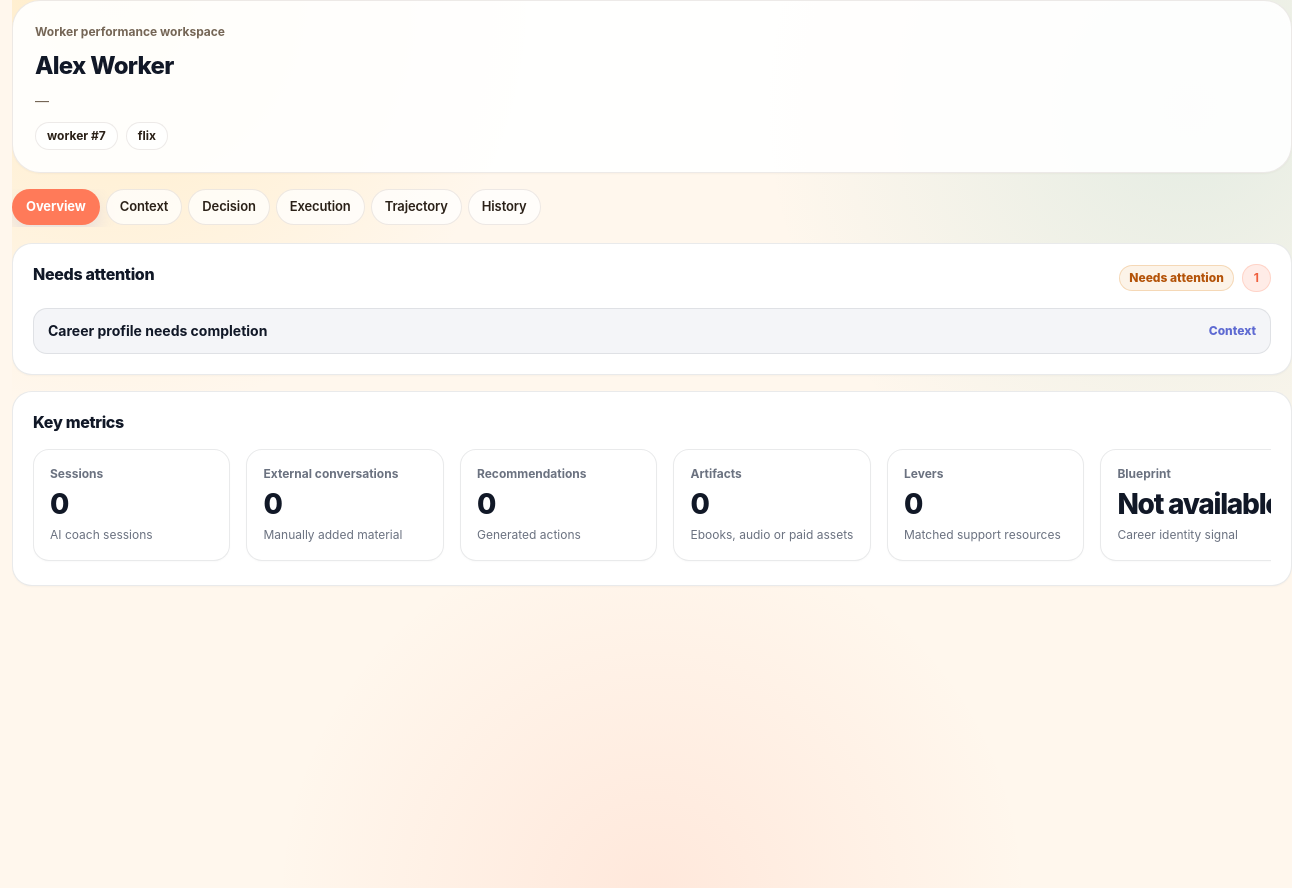
OrganizationInsightsTab + Organization Guidance › keeps guidance visible when the persisted mandate plan is absent
Click the tab "Decision".
click(229, 207)  # box [188, 189, 270, 225]
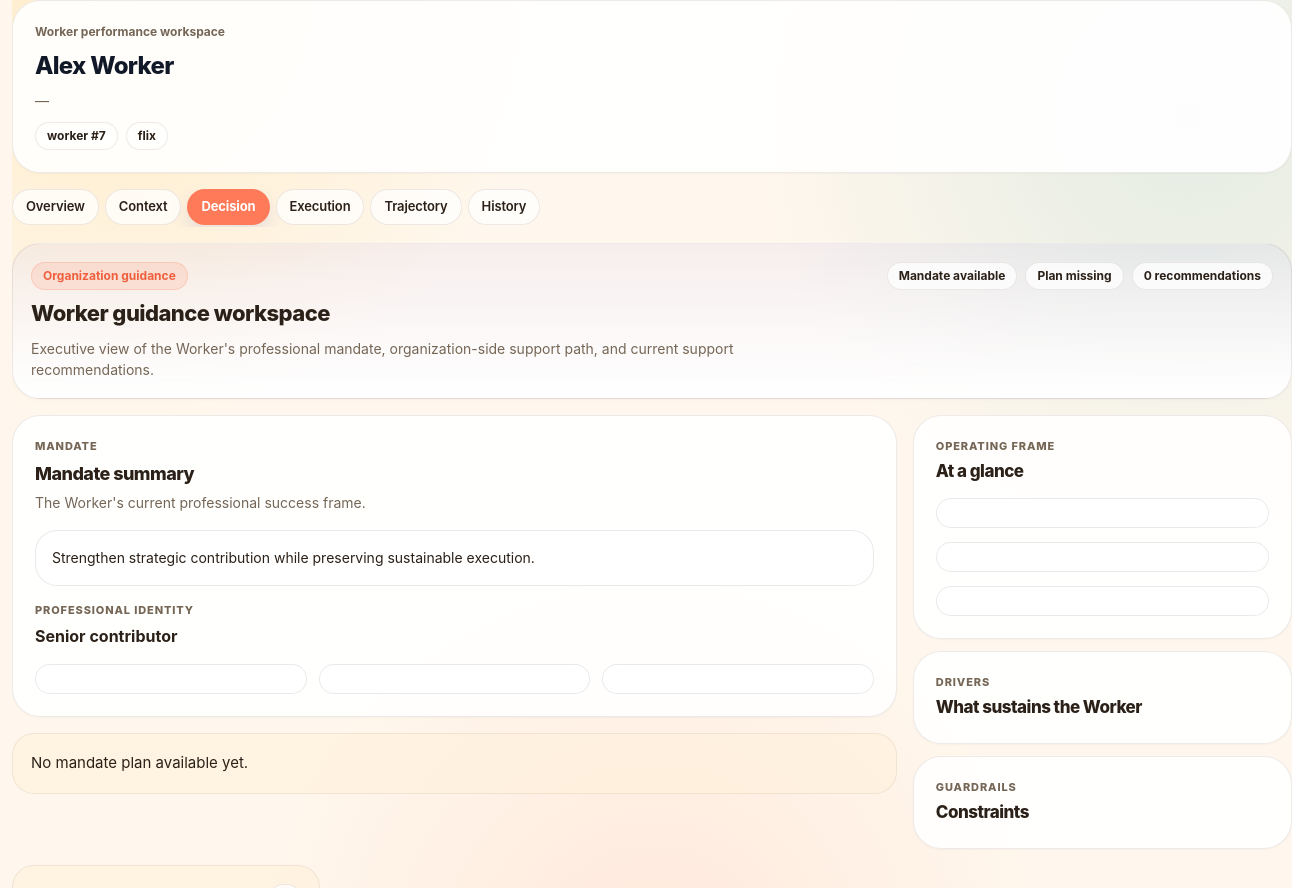
Expected: the text "Strengthen strategic contribution while preserving sustainable execution." is shown, [52, 549, 535, 566]
